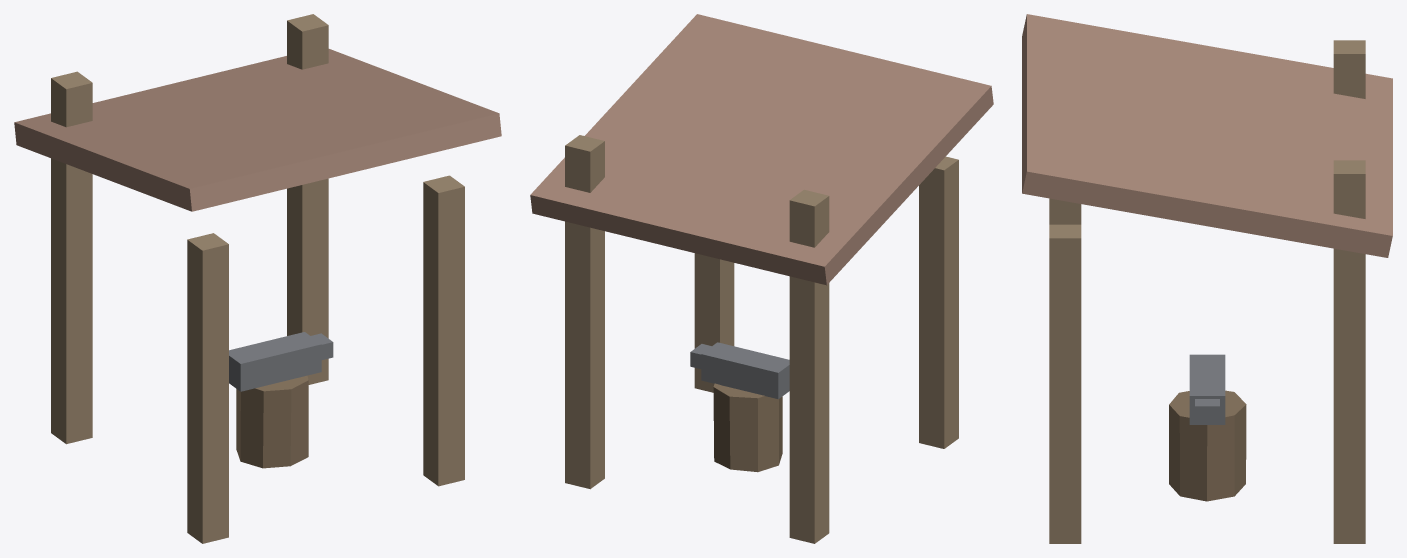
Rendered from anvil_shed.glb.
3 views of the same model, side by side, from view 1: azimuth 30°, elevation 25°; view 2: azimuth 150°, elevation 25°; view 3: azimuth 270°, elevation 25° (orthographic). The views are drawn at different scales.
Visible parts, largest first — view 1: anvil_shed; view 2: anvil_shed; view 3: anvil_shed.
Boxes of the visible parts, <box> form: anvil_shed: <box>14,14,501,543</box>; anvil_shed: <box>530,14,993,543</box>; anvil_shed: <box>1022,14,1392,543</box>.
Bounding box in the file's own units: 2.1 × 2.39 × 2.09.
